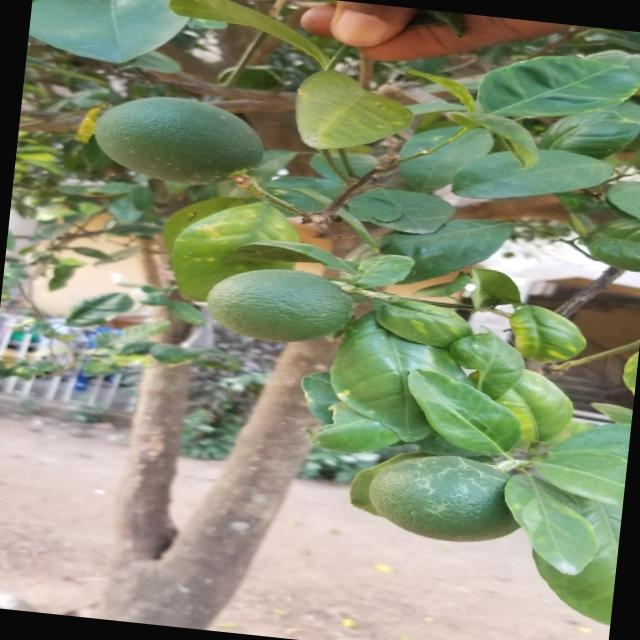agrume: (81, 86, 283, 207), (362, 440, 538, 556), (193, 251, 372, 360)
